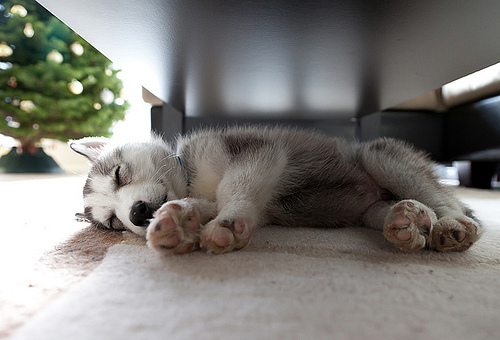dog: (68, 124, 487, 254)
